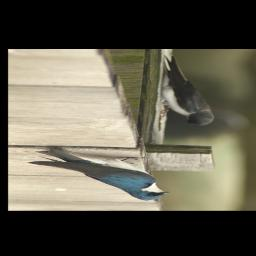Swallow: (28, 148, 170, 201)
